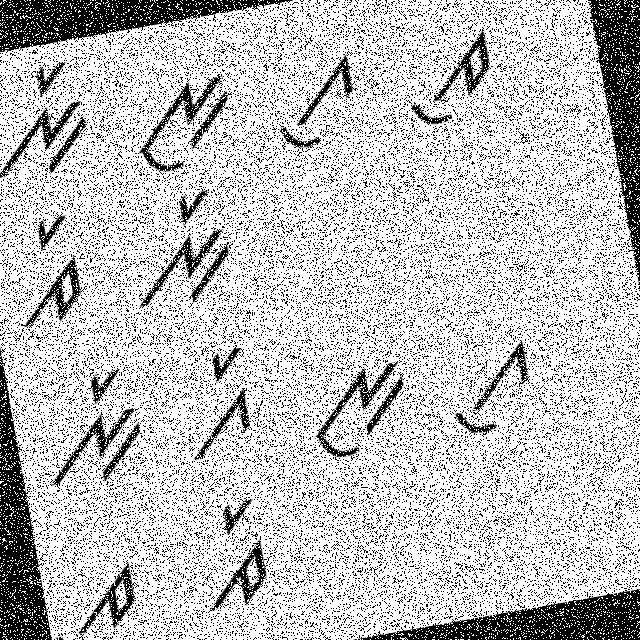gar: (170, 341, 266, 468)
gaw: (438, 328, 542, 444), (264, 50, 370, 157)
ngar: (30, 354, 151, 496), (112, 182, 242, 312), (0, 52, 103, 189)
ngaw: (288, 348, 420, 477), (122, 62, 243, 183)
tar: (0, 204, 93, 336), (188, 495, 282, 624)
taw: (395, 17, 510, 138), (43, 555, 149, 639)
